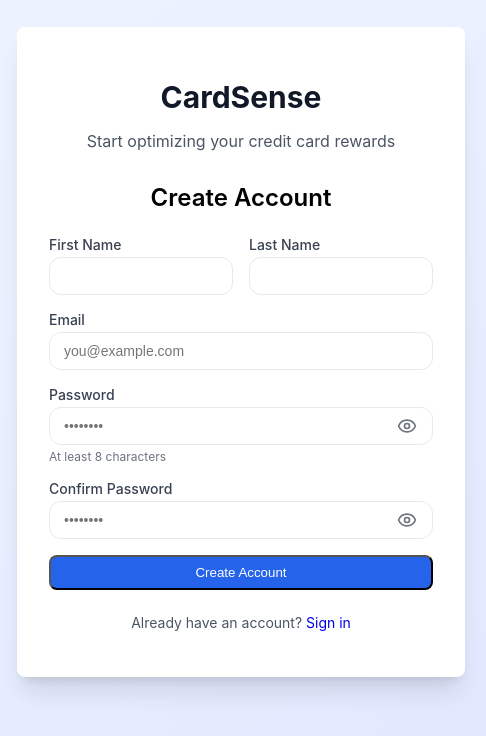
Scenario: Register Component › Validation › shows error when passwords do not match
Type "John" into the field labelled "First Name". click: (141, 276)
box: [49,257,233,295]
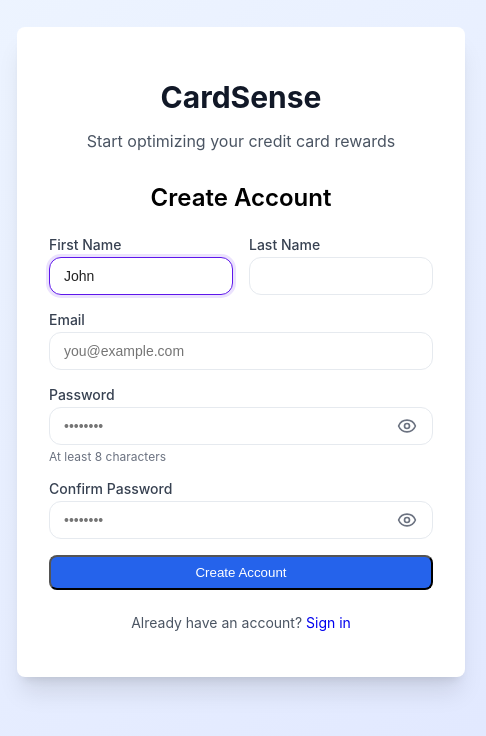
Type "Doe" into the field labelled "Last Name". click: (341, 276)
box: [249,257,433,295]
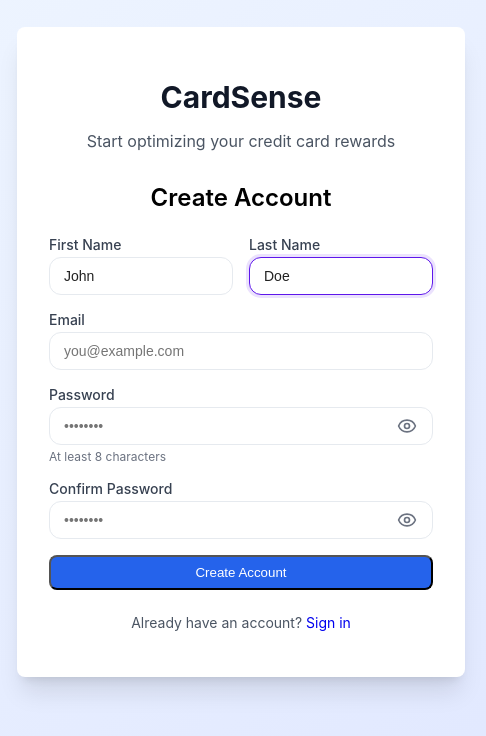
Type "john@example.com" into the field labelled "Email". click: (241, 351)
box: [49,332,433,370]
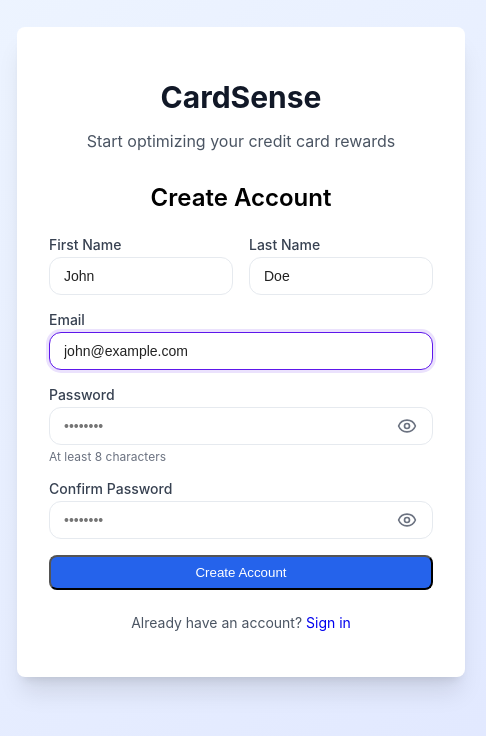
Type "password123" into the password field labelled "Password". click: (241, 426)
box: [49,407,433,445]
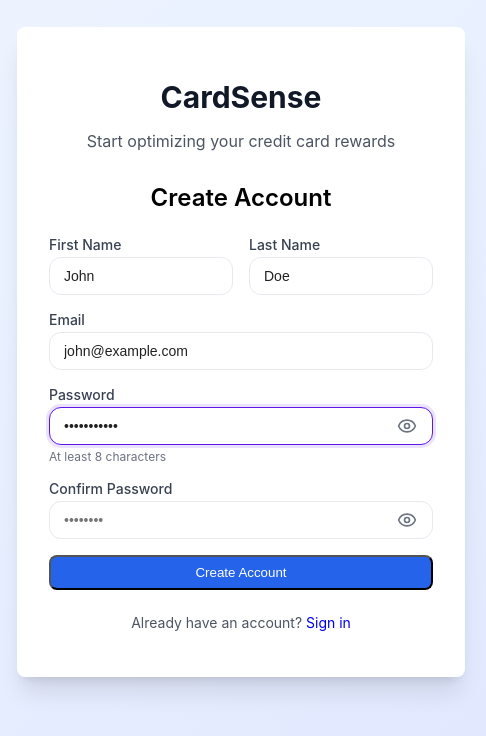
Type "differentpassword" into the password field labelled "Confirm Password". click: (241, 520)
box: [49,501,433,539]
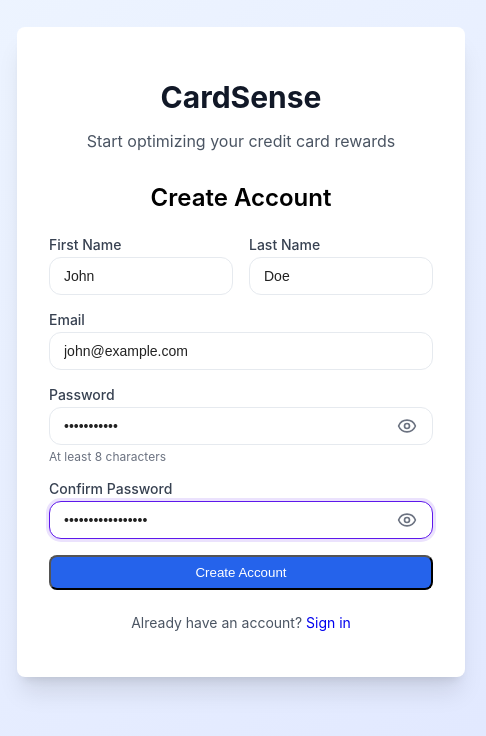
Click the button "Create Account". click: (241, 572)
box: [49,555,433,590]
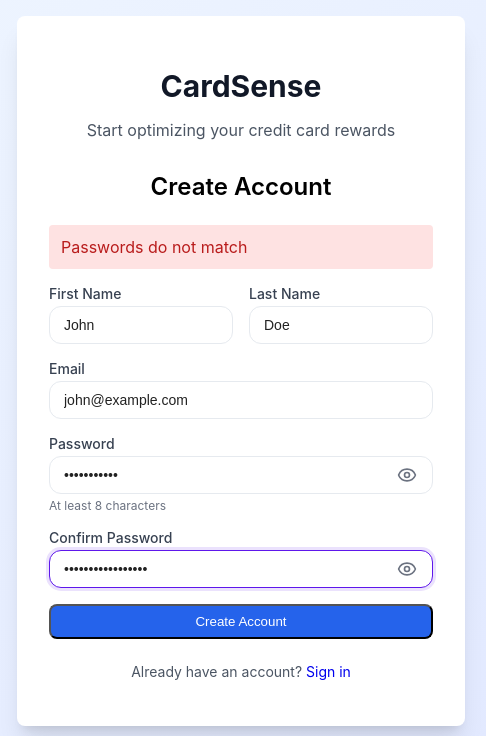
expect the text "Passwords do not match" is shown: met, box [49,225,433,269]
